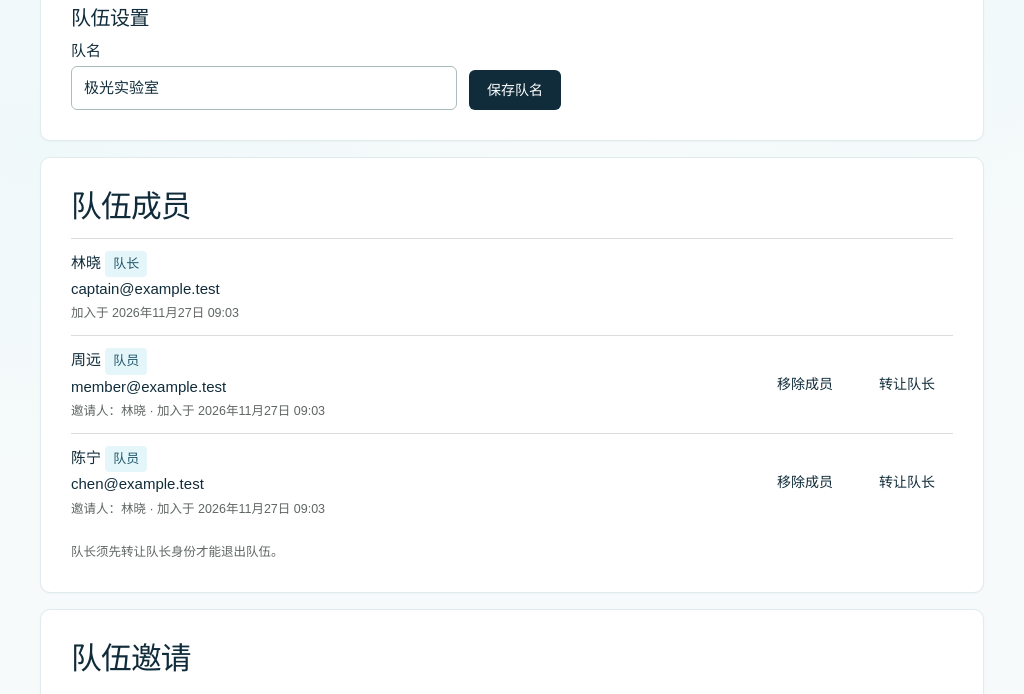
Test: transfers the captain role and then allows the former captain to leave
The width and height of the screenshot is (1024, 694).
(page scrolled)
What coordinates should you click on to do the following:
click the button "转让队长" in the row of "周远"
I would click on:
 (907, 385)
Its box is x1=861 y1=365 x2=953 y2=405.
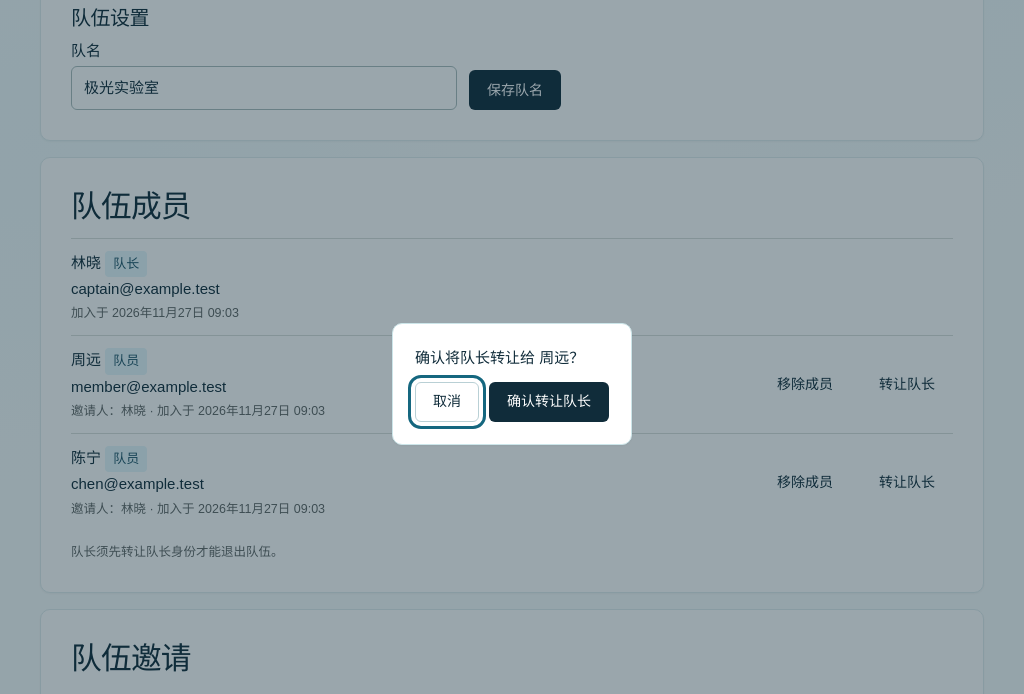
What coordinates should you click on to do the following:
click the 4th button
I would click on:
 (549, 402)
Its box is x1=489 y1=382 x2=609 y2=422.
(page scrolled)
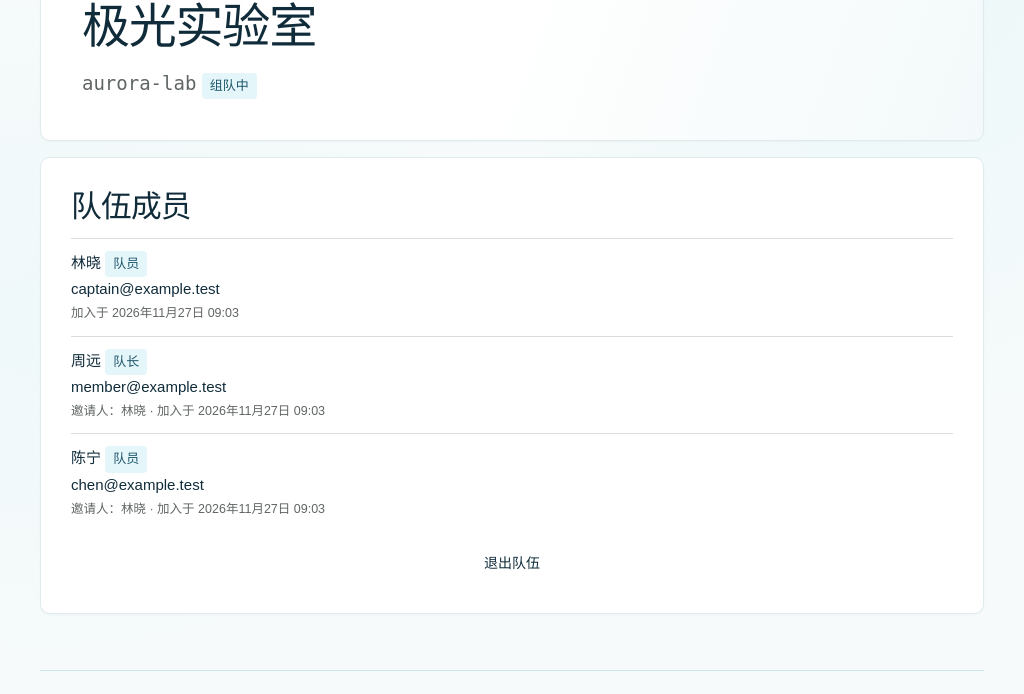
Now the text "队长" is shown, box x1=105 y1=349 x2=147 y2=375
What coordinates should you click on to do the following:
click the button "退出队伍"
I would click on:
 (512, 563)
Its box is x1=71 y1=543 x2=953 y2=583.
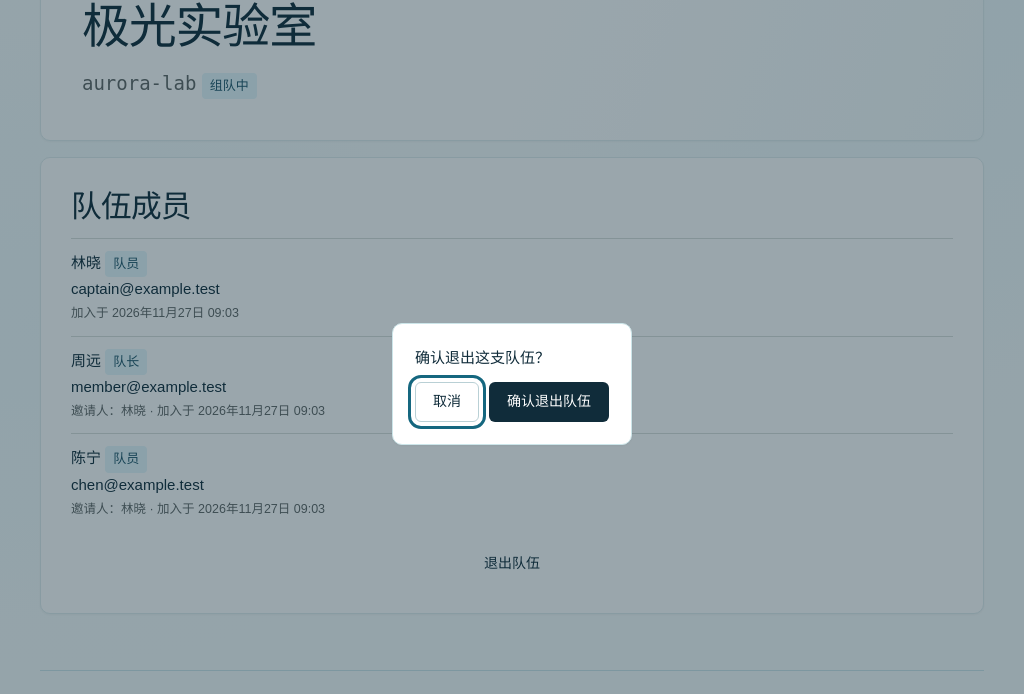
What coordinates should you click on to do the following:
click the 2nd button
I would click on:
 (549, 402)
Its box is x1=489 y1=382 x2=609 y2=422.
(page scrolled)
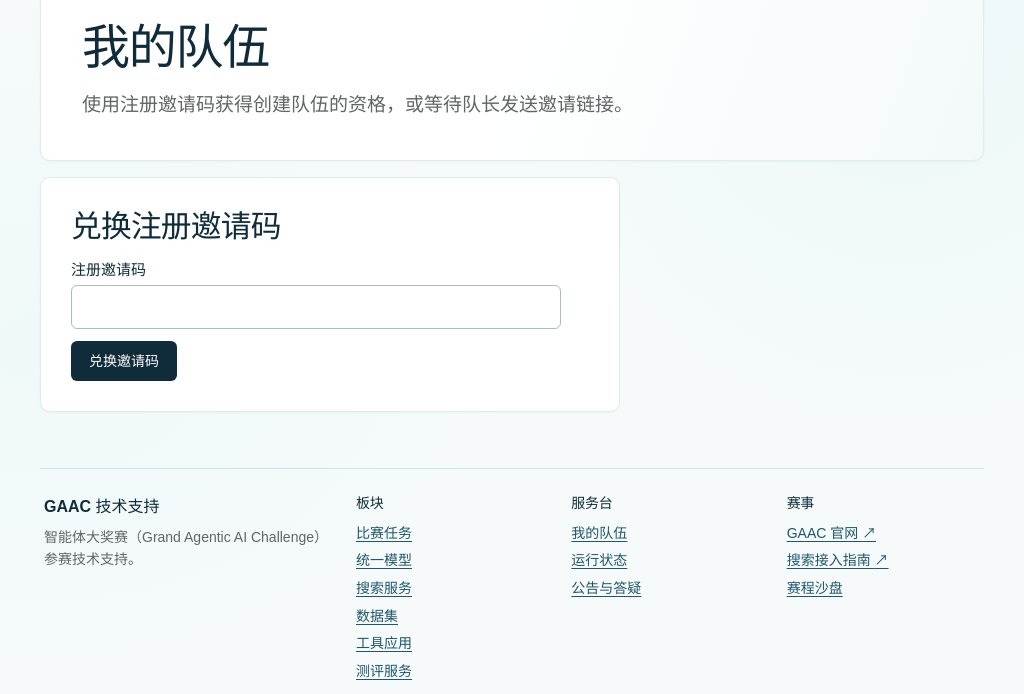
Now the heading "兑换注册邀请码" is shown, box x1=71 y1=209 x2=281 y2=244
